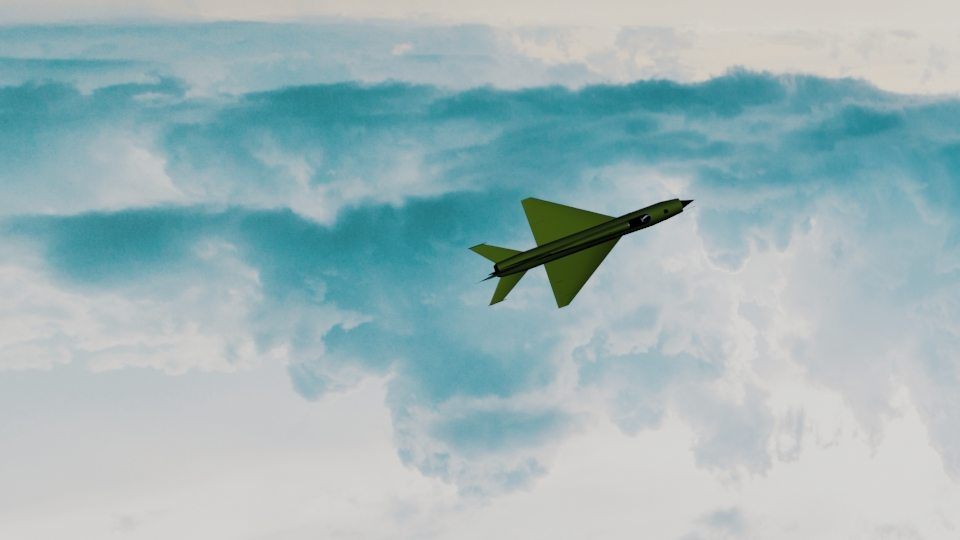plane: (475, 189, 691, 304)
